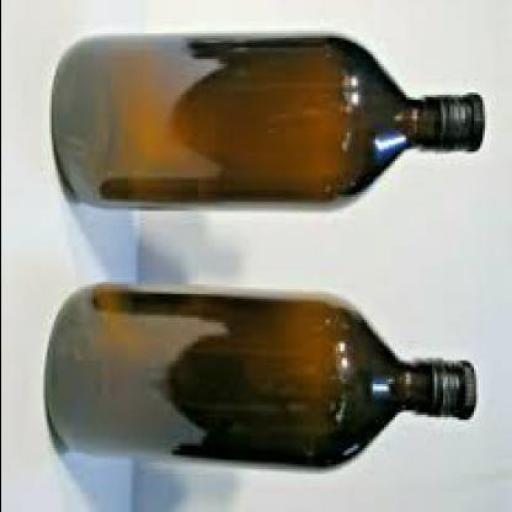glass: (48, 280, 474, 467), (53, 33, 484, 208)
metal: (430, 356, 478, 417), (440, 92, 486, 149)
